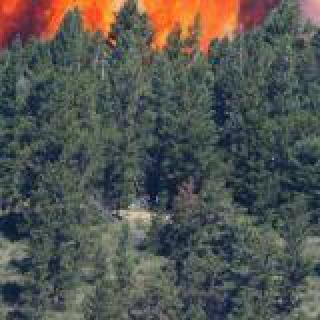fire: (136, 0, 246, 38), (40, 0, 106, 40), (0, 0, 42, 48), (248, 0, 296, 14), (0, 0, 14, 20), (300, 0, 318, 4)
